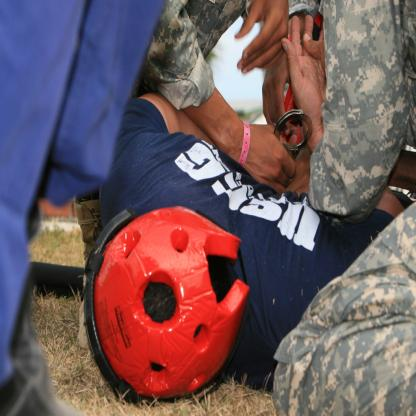Helmet: (90, 202, 254, 414)
